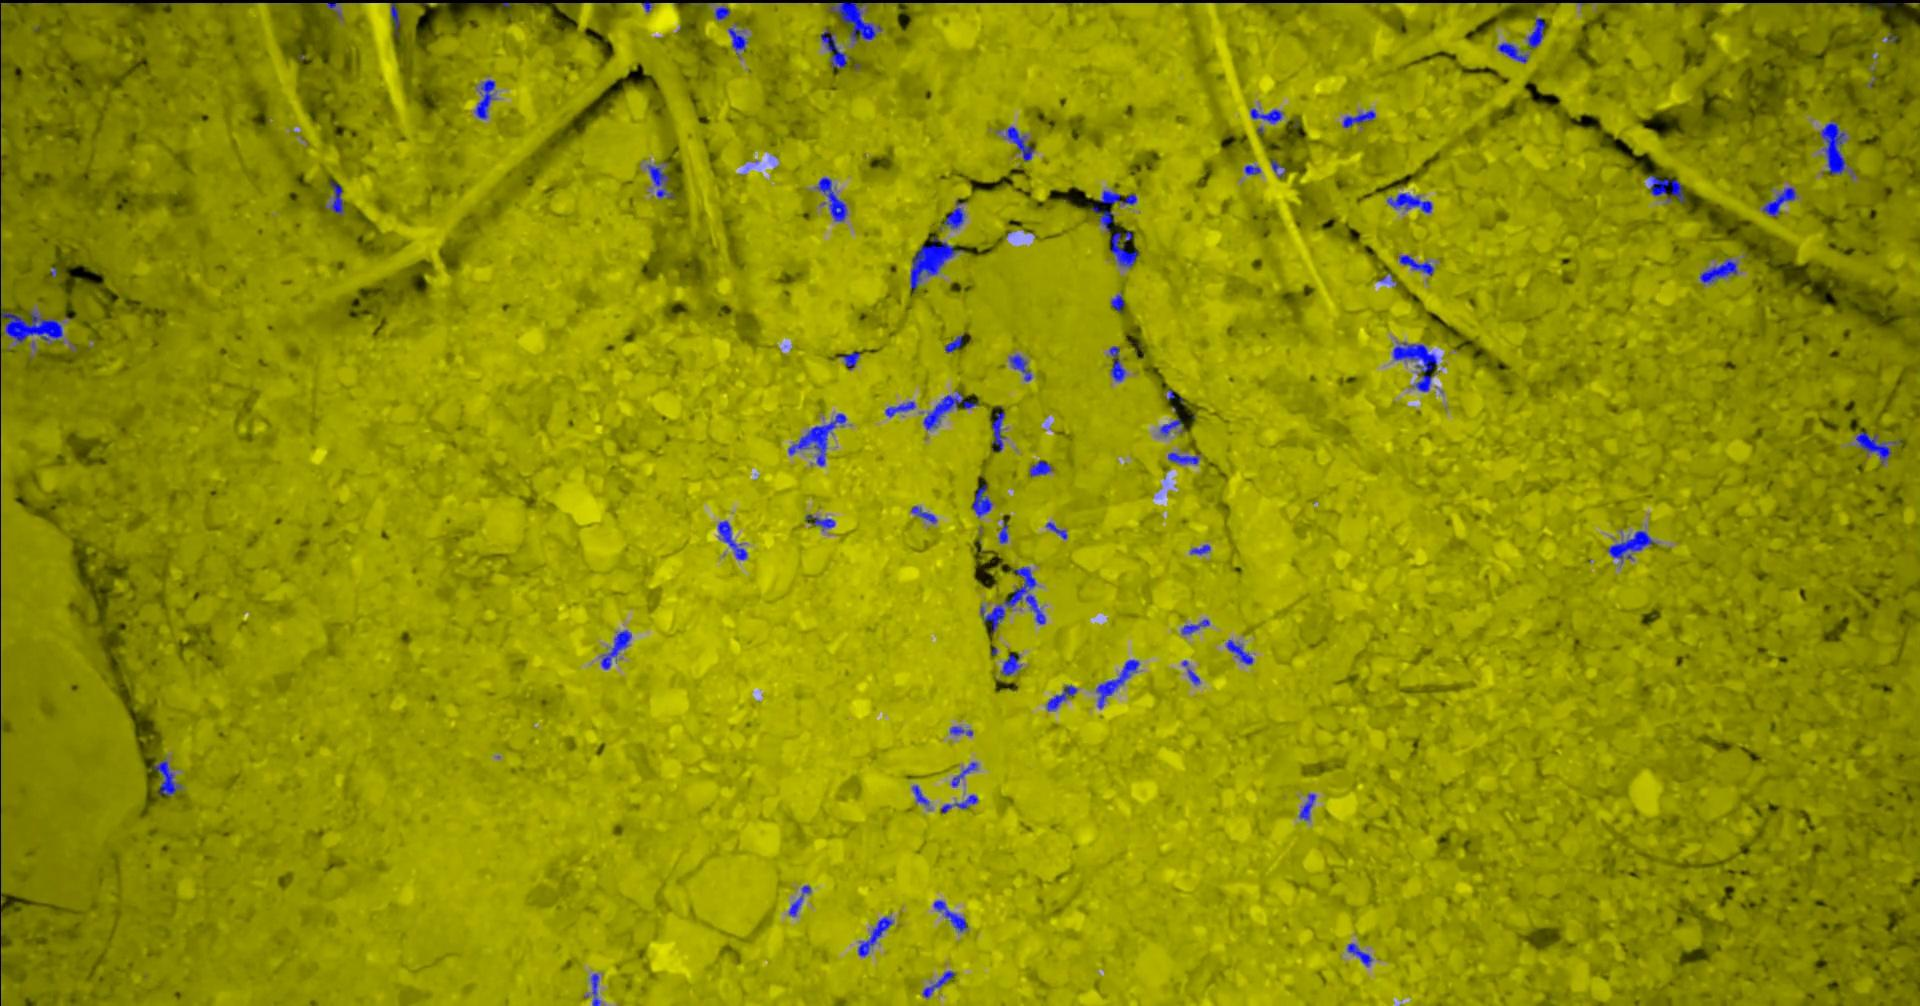ant: (980, 567, 1045, 631), (787, 413, 844, 465), (910, 236, 963, 292), (1392, 342, 1436, 391), (1095, 659, 1139, 708), (829, 0, 881, 41), (923, 390, 977, 429), (1608, 530, 1655, 563), (1818, 119, 1845, 175), (857, 916, 891, 956), (817, 177, 846, 221), (599, 630, 631, 669), (1855, 431, 1891, 464), (820, 28, 850, 67), (717, 520, 745, 559), (152, 758, 180, 796), (1648, 174, 1684, 203), (933, 901, 966, 931), (1110, 230, 1137, 267), (1763, 187, 1796, 216), (1006, 126, 1032, 160), (648, 164, 674, 198), (1699, 259, 1736, 283), (1385, 193, 1431, 212), (922, 970, 954, 997), (1046, 683, 1077, 710), (474, 79, 494, 118), (1398, 254, 1432, 276), (1225, 639, 1252, 664), (789, 885, 810, 916), (940, 794, 977, 812), (990, 405, 1004, 451), (971, 483, 990, 516), (1497, 42, 1528, 62), (951, 762, 977, 786), (1109, 345, 1125, 381), (1346, 942, 1371, 965), (1010, 354, 1031, 381), (943, 199, 964, 227), (1528, 17, 1545, 48), (1091, 205, 1112, 230), (1342, 111, 1375, 127), (1098, 191, 1137, 205), (728, 27, 747, 53), (1250, 108, 1283, 123), (1298, 793, 1316, 821), (884, 401, 916, 417), (329, 180, 343, 213), (999, 653, 1020, 674), (1181, 619, 1209, 634), (910, 506, 936, 522), (805, 514, 834, 528), (910, 785, 930, 805), (1159, 418, 1181, 436), (1029, 460, 1051, 476), (841, 351, 860, 370), (1045, 521, 1065, 539), (1167, 452, 1197, 464), (943, 334, 963, 352), (390, 3, 399, 36), (590, 973, 599, 1005), (1110, 293, 1124, 311), (949, 727, 971, 735), (714, 6, 729, 19), (1190, 544, 1209, 554), (998, 523, 1007, 542), (1244, 164, 1260, 174)
